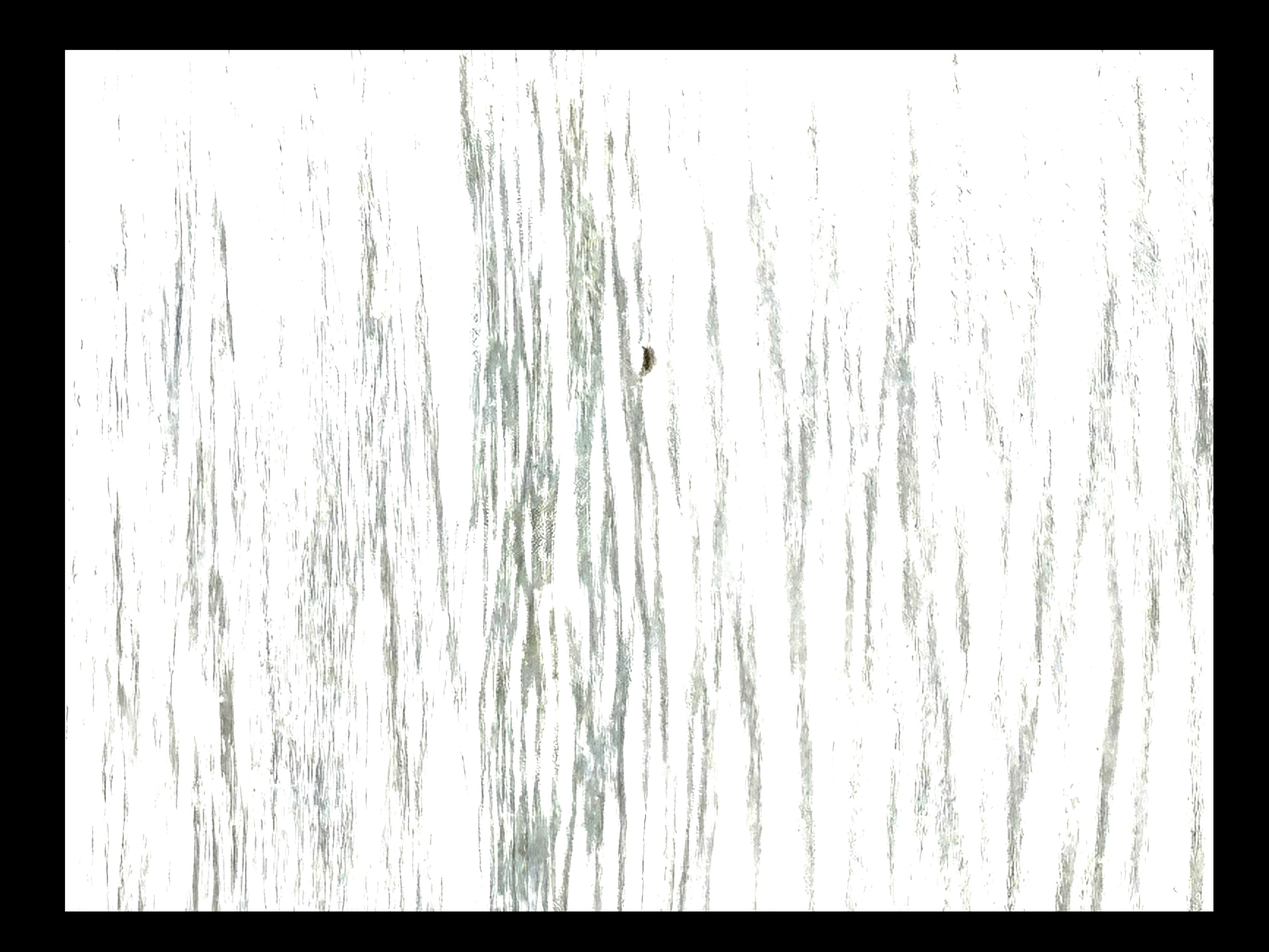Plastic wastes: (550, 575, 584, 680), (657, 328, 674, 362)
